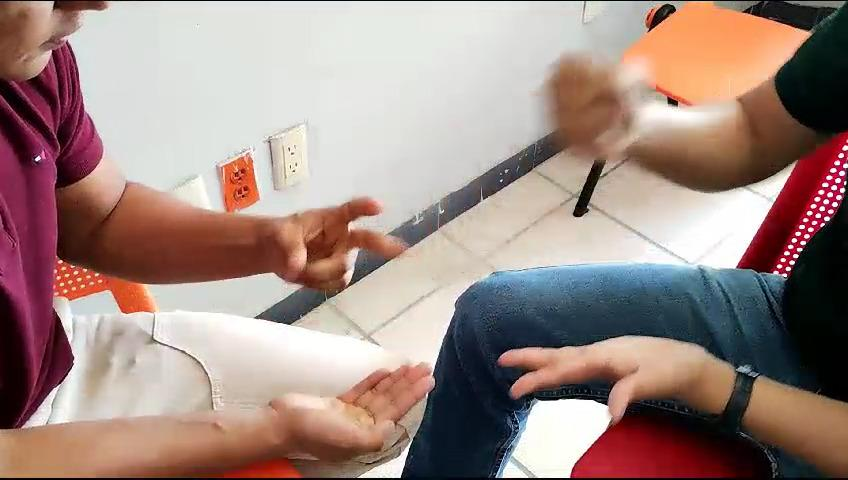Scissor: (248, 183, 419, 299)
